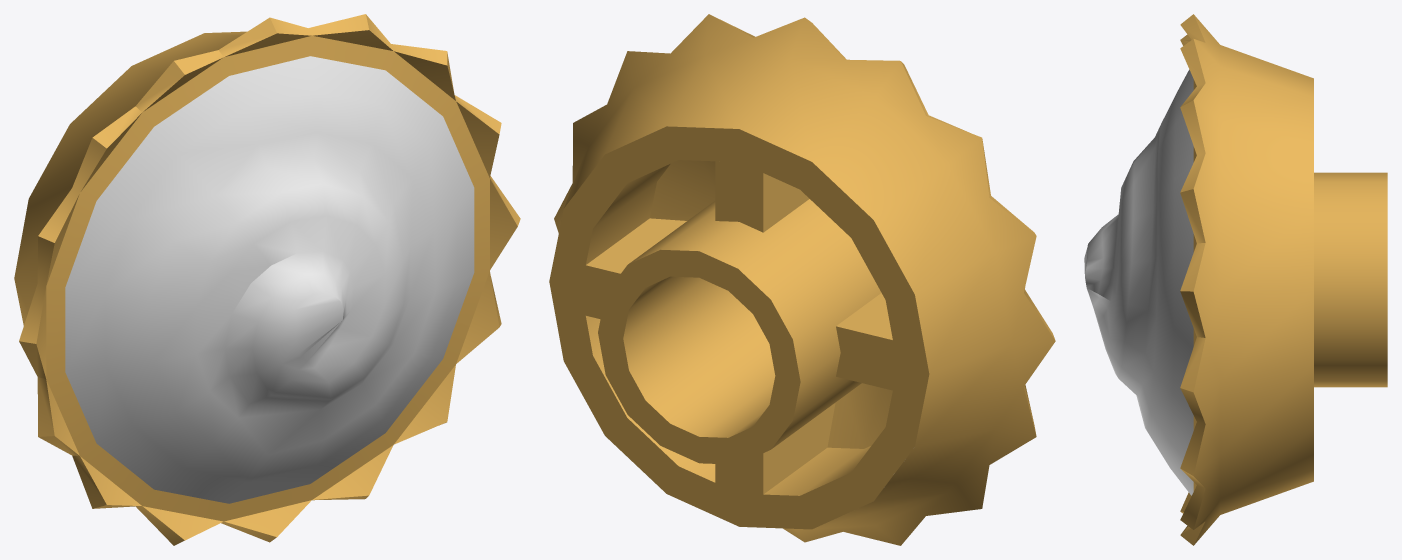
The picture shows the model from 3 angles, left to right: view 1: azimuth 30°, elevation 25°; view 2: azimuth 150°, elevation 25°; view 3: azimuth 270°, elevation 25°; orthographic projection. The views are drawn at different scales.
Parts seen in each view (by area): view 1: SOLID-WHITE_012-material.001, SOLID-WHITE_012-material.103; view 2: SOLID-WHITE_012-material.103; view 3: SOLID-WHITE_012-material.103, SOLID-WHITE_012-material.001.
Part boxes in pixels (<box>): SOLID-WHITE_012-material.001: <box>65,56,474,503</box>; SOLID-WHITE_012-material.103: <box>14,14,520,545</box>; SOLID-WHITE_012-material.103: <box>549,14,1055,545</box>; SOLID-WHITE_012-material.103: <box>1180,14,1387,545</box>; SOLID-WHITE_012-material.001: <box>1084,69,1193,495</box>.
Size of the model in its own units: 202 by 202 by 115.
